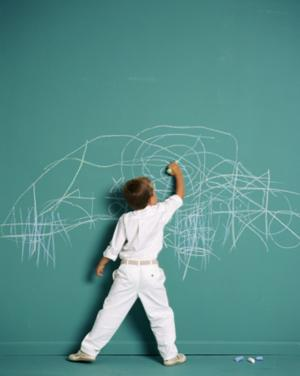person: (68, 163, 188, 366)
